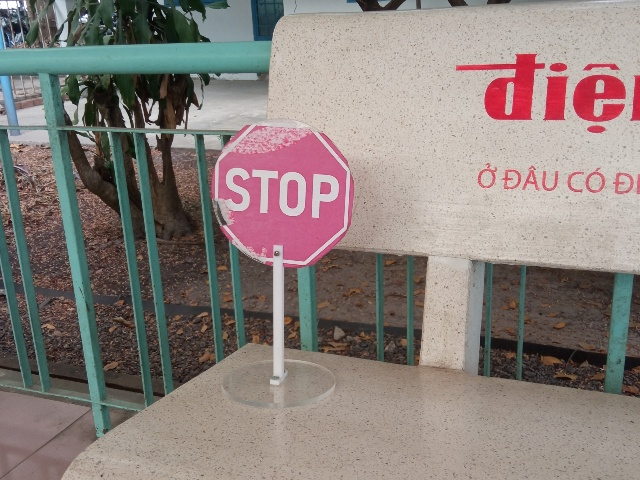Stop_Sign: (210, 118, 355, 269)
